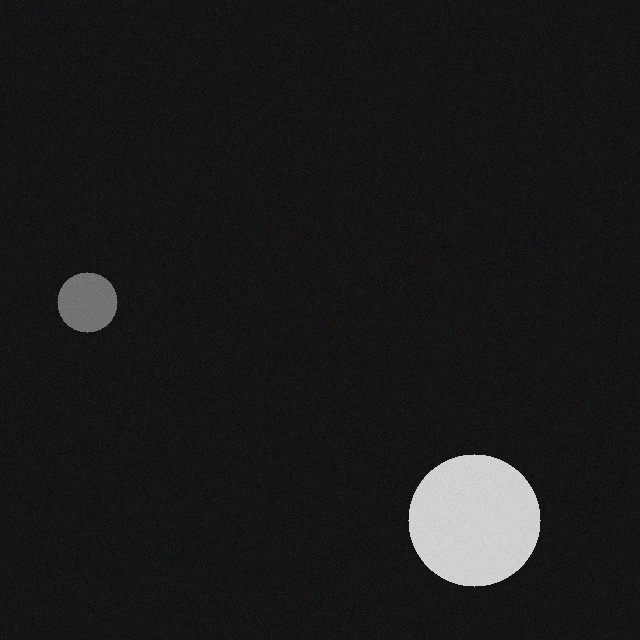circle: (402, 439, 534, 571), (51, 257, 111, 317)
